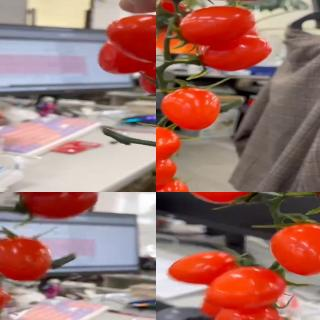tomato: (201, 266, 286, 311), (177, 5, 256, 47), (199, 34, 272, 72), (165, 251, 242, 287), (272, 223, 320, 278), (161, 86, 223, 128), (0, 236, 52, 283), (108, 11, 156, 61), (15, 192, 98, 219), (209, 304, 278, 320), (156, 0, 192, 30), (179, 192, 263, 203), (156, 126, 180, 162), (156, 154, 177, 192), (136, 62, 156, 99), (156, 177, 193, 192)
